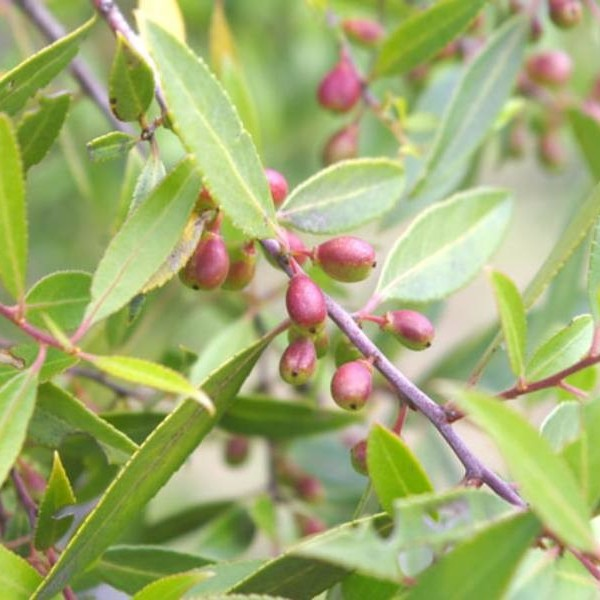obstacle: (98, 50, 595, 552)
